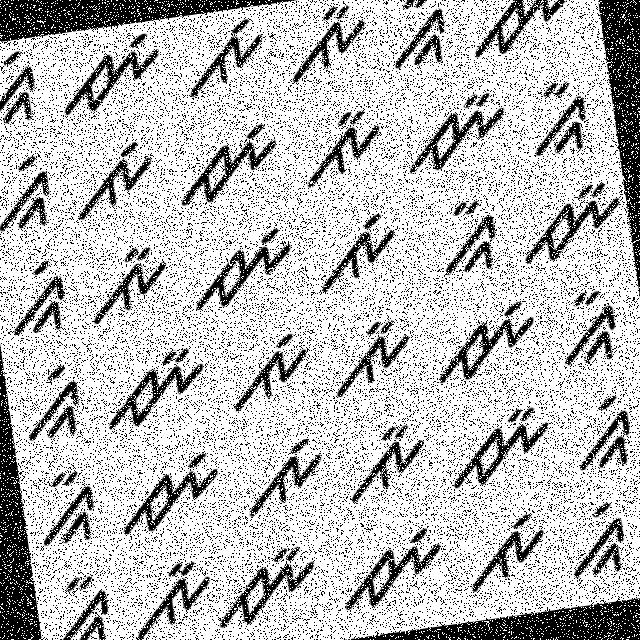an: (275, 0, 384, 95), (75, 235, 180, 333), (325, 308, 424, 406), (336, 413, 436, 508), (293, 102, 392, 192), (124, 554, 220, 639)
ang: (452, 502, 556, 604), (176, 9, 277, 110), (235, 429, 335, 526), (218, 327, 319, 420), (310, 202, 407, 296), (67, 136, 161, 225)
nggan: (26, 454, 109, 557), (516, 72, 595, 170), (426, 194, 512, 284), (382, 0, 461, 90), (554, 286, 630, 371), (38, 565, 123, 639)
nggang: (557, 494, 639, 584), (0, 253, 79, 345), (11, 358, 88, 450), (565, 383, 639, 478), (0, 146, 62, 242), (0, 42, 50, 141)
njan: (511, 172, 629, 270), (95, 340, 215, 436), (437, 402, 560, 495), (399, 82, 514, 180), (210, 538, 322, 632), (459, 0, 584, 77)
njang: (50, 26, 172, 130), (185, 220, 302, 328), (422, 292, 546, 390), (334, 518, 451, 621), (114, 445, 228, 546), (169, 119, 286, 213)
